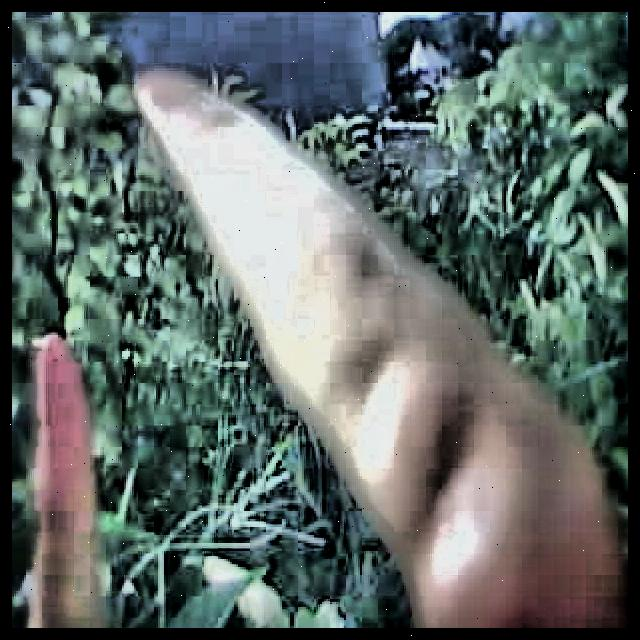Cabai: (138, 71, 628, 628), (13, 325, 125, 628)
